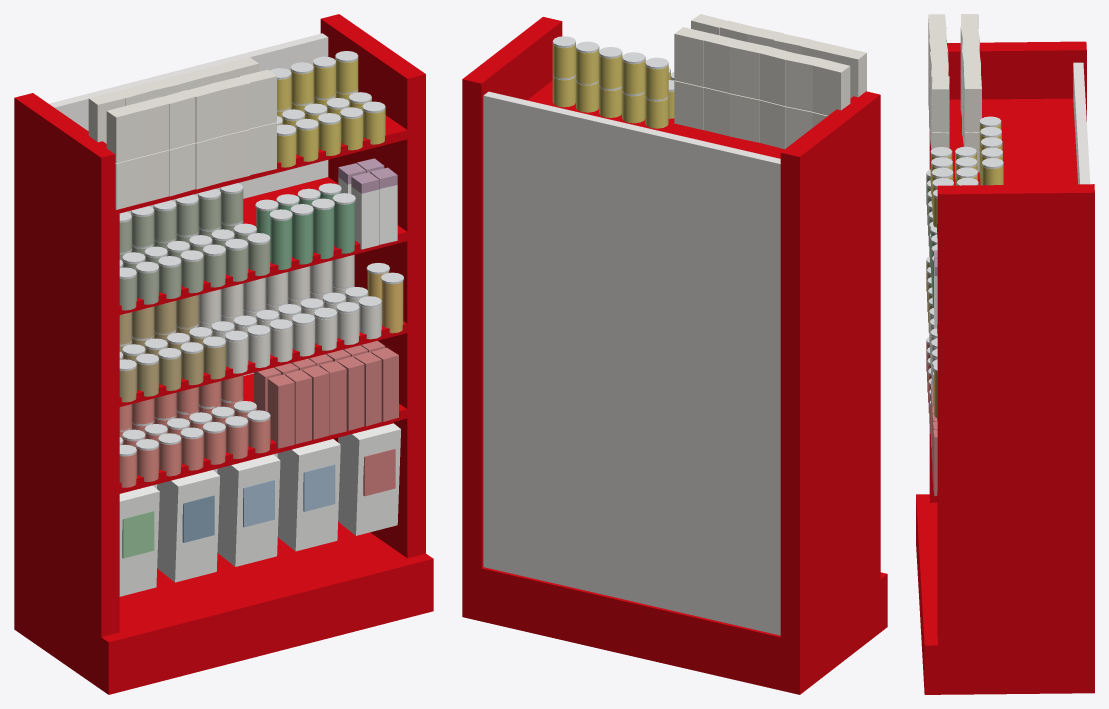
File: minimarket_rack_singleside_stocked_red.glb
The picture shows the model from 3 angles, left to right: view 1: azimuth 30°, elevation 25°; view 2: azimuth 150°, elevation 25°; view 3: azimuth 270°, elevation 25°; orthographic projection. The views are drawn at different scales.
Visible parts, largest first — view 1: Goods, upright_L, plinth, upright_R, back_panel, flour_sack_1, flour_sack_3, flour_sack_4, flour_sack_2, shelf_2, flour_sack_0, shelf_3 (+2 smaller); view 2: back_panel, upright_L, Goods, plinth, upright_R, shelf_3; view 3: upright_R, Goods, shelf_3, upright_L, plinth, back_panel.
Boxes of the visible parts, x1,y1,x2,y2 form: Goods: (88, 51, 403, 558); upright_L: (14, 93, 119, 689); plinth: (14, 522, 433, 694); upright_R: (320, 14, 425, 558); back_panel: (49, 33, 328, 488); flour_sack_1: (157, 470, 220, 582); flour_sack_3: (277, 439, 340, 551); flour_sack_4: (338, 423, 400, 535); flour_sack_2: (217, 454, 280, 566); shelf_2: (119, 177, 407, 314); flour_sack_0: (119, 485, 159, 596); shelf_3: (119, 115, 408, 213); back_panel: (483, 91, 780, 635); upright_L: (780, 91, 880, 694); Goods: (552, 14, 866, 149); plinth: (462, 567, 887, 690); upright_R: (462, 17, 562, 621); shelf_3: (527, 81, 784, 158); upright_R: (937, 184, 1094, 694); Goods: (926, 14, 1003, 495); shelf_3: (937, 98, 1077, 237); upright_L: (929, 41, 1086, 502); plinth: (916, 494, 1086, 694); back_panel: (1073, 62, 1090, 184).
Size of the model in its own units: 1.06 by 1.73 by 0.5251.
